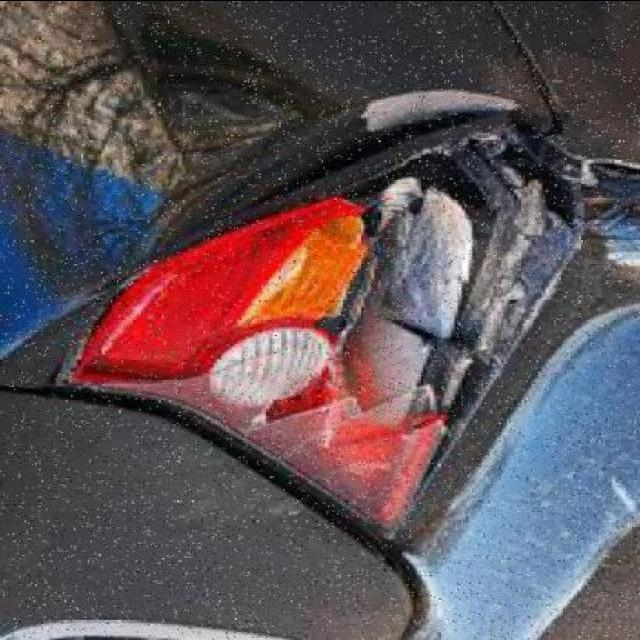Taillight-Damage: (39, 107, 592, 520)
